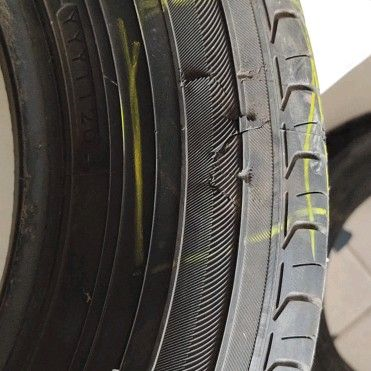cut: (205, 116, 272, 213), (178, 73, 214, 97)
